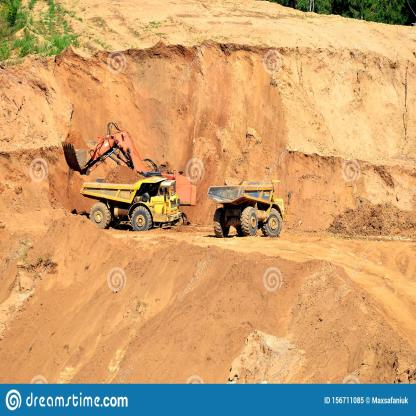dump_truck: (206, 168, 295, 243), (82, 174, 180, 242)
